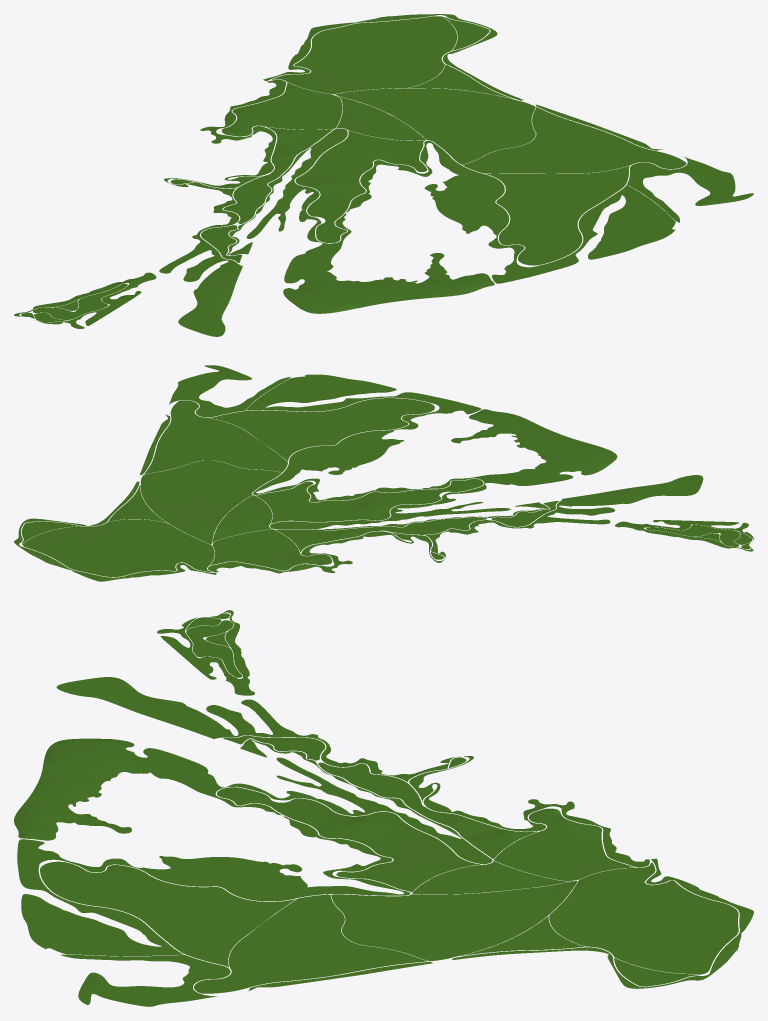
The model's file is 12_Protected_Area.glb.
The picture shows the model from 3 angles, top to bottom: view 1: azimuth 30°, elevation 25°; view 2: azimuth 150°, elevation 25°; view 3: azimuth 270°, elevation 25°; orthographic projection. The views are drawn at different scales.
Visible parts, largest first — view 1: 12_Protected_Area; view 2: 12_Protected_Area; view 3: 12_Protected_Area.
Part boxes in pixels (x1,y1,x2,y2): 12_Protected_Area: [14, 14, 753, 336]; 12_Protected_Area: [14, 365, 753, 581]; 12_Protected_Area: [14, 610, 753, 1006].
Bounding box in the file's own units: 2290 × 5.73 × 1806.
